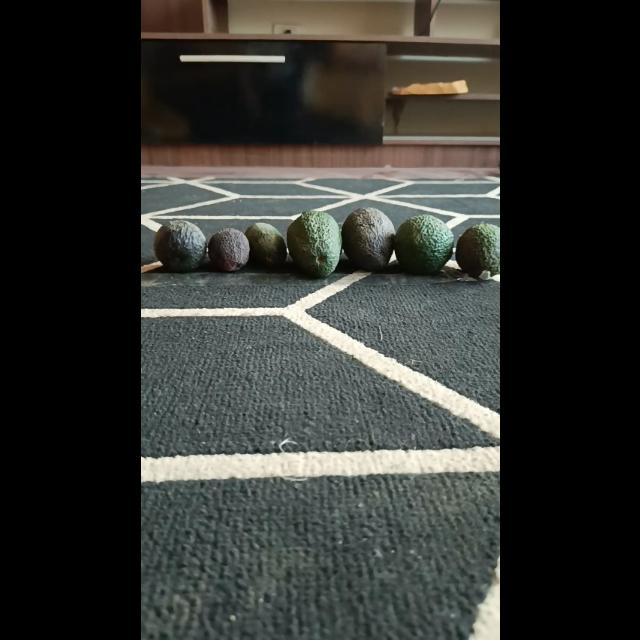Primera: (393, 215, 455, 275), (286, 210, 340, 278), (340, 207, 396, 271)
Segunda: (154, 220, 206, 272), (454, 222, 500, 280)
Tercera: (242, 222, 286, 268), (207, 228, 250, 272)
